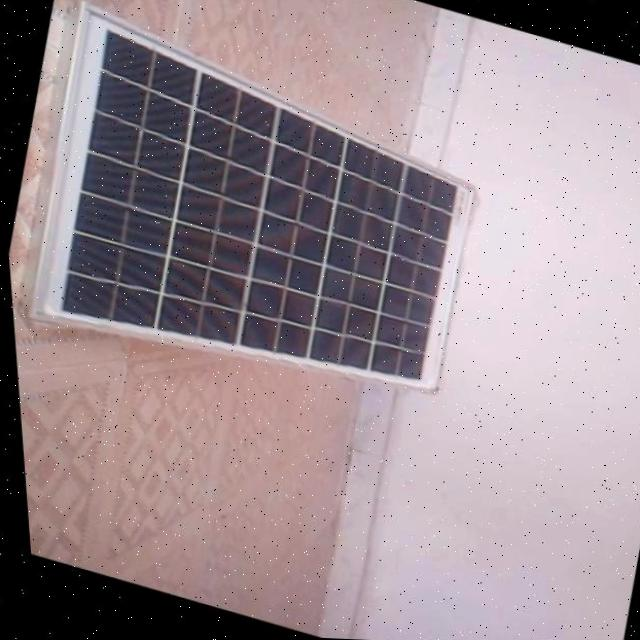Normal Solar Panel: (0, 0, 511, 439)
